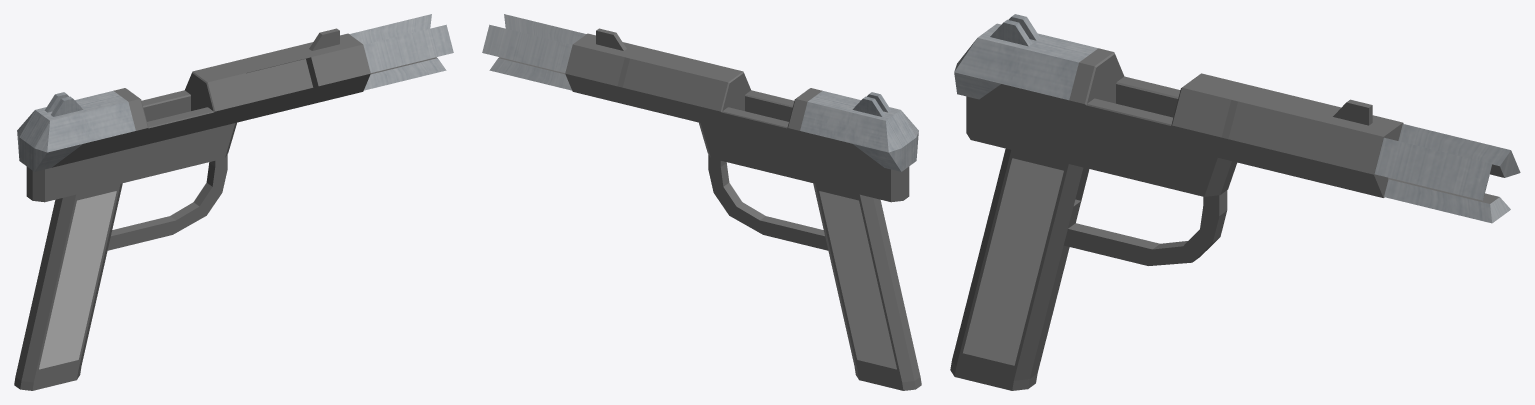
File: FEP-S6P-Body.obj
The picture shows the model from 3 angles, left to right: view 1: azimuth 30°, elevation 25°; view 2: azimuth 150°, elevation 25°; view 3: azimuth 330°, elevation 25°; orthographic projection. The views are drawn at different scales.
Parts seen in each view (by area): view 1: FEP-S6P-Body; view 2: FEP-S6P-Body; view 3: FEP-S6P-Body.
Boxes of the visible parts, x1,y1,x2,y2 form: FEP-S6P-Body: (14, 14, 453, 390); FEP-S6P-Body: (482, 14, 921, 390); FEP-S6P-Body: (950, 14, 1520, 390).
Size of the model in its own units: 8.09 by 5.12 by 1.
